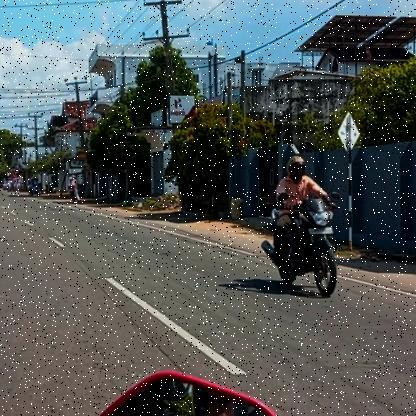motorcycle: (260, 196, 340, 298)
